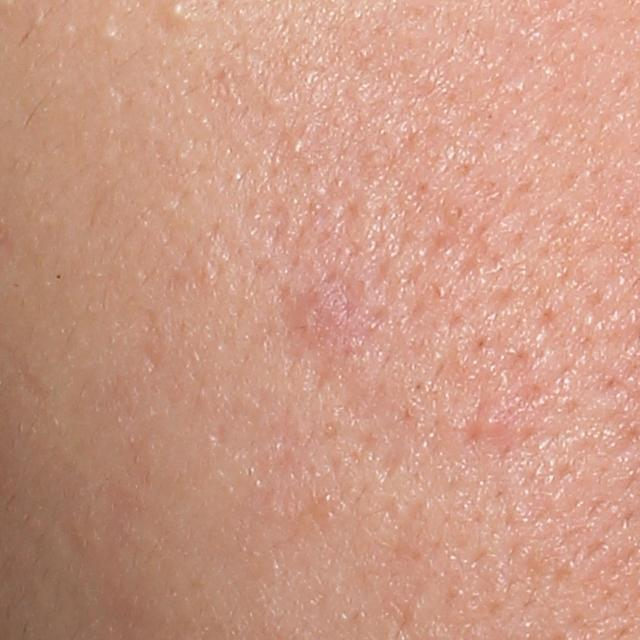papule: (476, 406, 506, 438)
